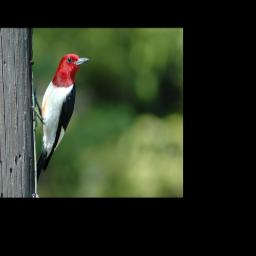Woodpecker: (26, 53, 91, 187)
